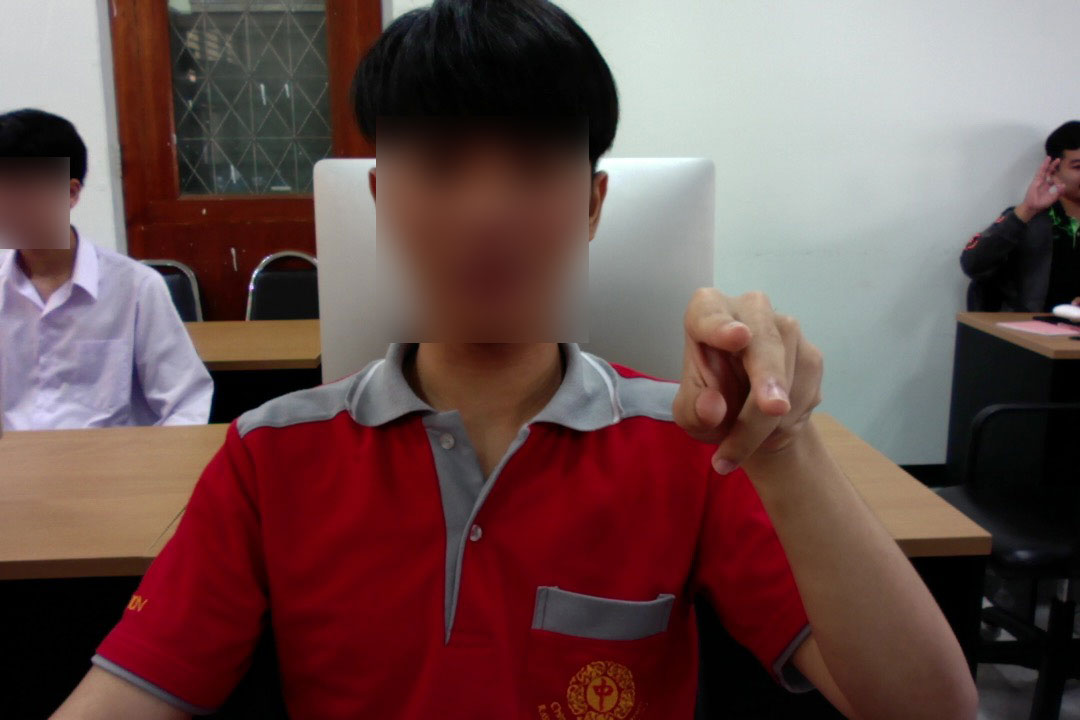por: (660, 271, 830, 478)
